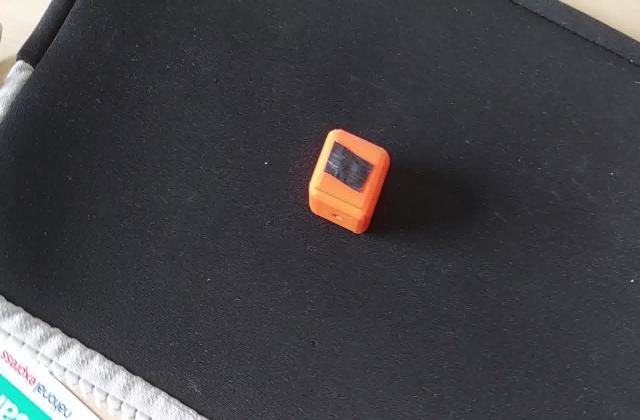black: (322, 147, 381, 194)
sticker: (304, 124, 394, 236)
